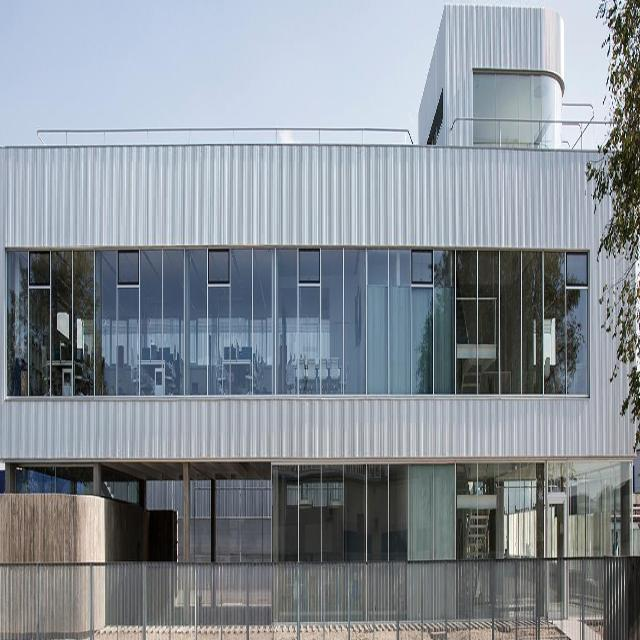Railing: (0, 556, 639, 637), (36, 124, 414, 148), (454, 116, 609, 150)
plant: (585, 0, 640, 413)
wall: (0, 7, 640, 638)
windows: (7, 256, 590, 401), (270, 460, 631, 550), (478, 68, 564, 116)
